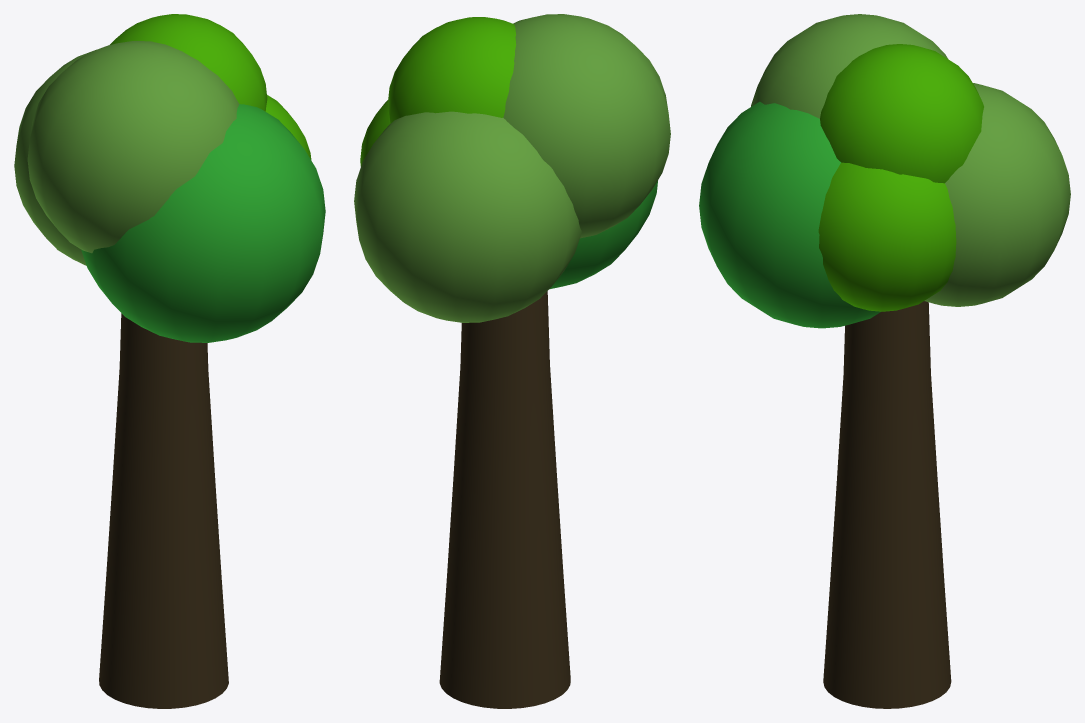
File: Tree_1.fbx
The picture shows the model from 3 angles, left to right: view 1: azimuth 30°, elevation 25°; view 2: azimuth 150°, elevation 25°; view 3: azimuth 270°, elevation 25°; orthographic projection. The views are drawn at different scales.
Visible parts, largest first — view 1: Tree_1; view 2: Tree_1; view 3: Tree_1.
Boxes of the visible parts, <box> form: Tree_1: <box>14,14,325,708</box>; Tree_1: <box>354,14,670,708</box>; Tree_1: <box>699,14,1070,708</box>.
Bounding box in the file's own units: 5.4 × 12.4 × 6.54.
